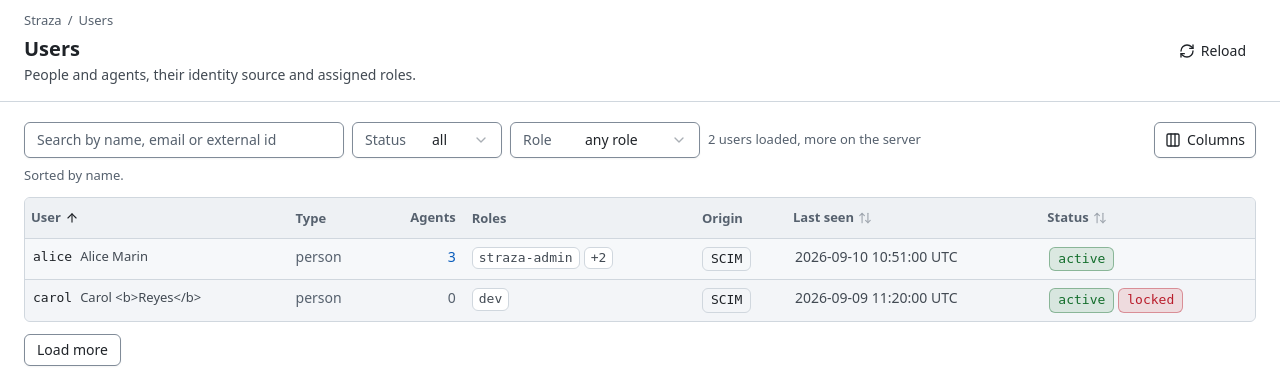
it: the Users screen › loads the next page from the cursor and keeps the rows it has
This screenshot has width=1280, height=383.
Expected: the button with aria-label "Open alice" is shown, [25, 238, 1255, 280]
Click the button "Load more".
click(72, 350)  # box [24, 334, 121, 366]
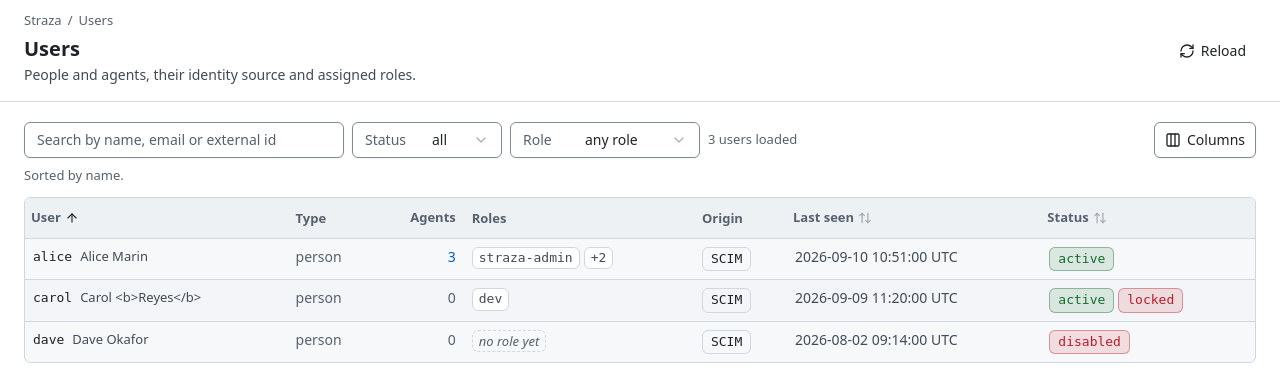
Now the button "Load more" is gone
